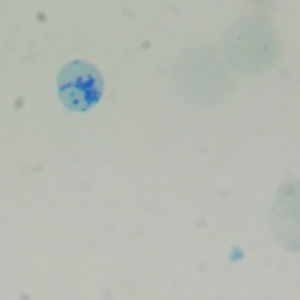aggregate reticulocyte: (54, 58, 106, 114)
punctate reticulocyte: (222, 16, 281, 77)
